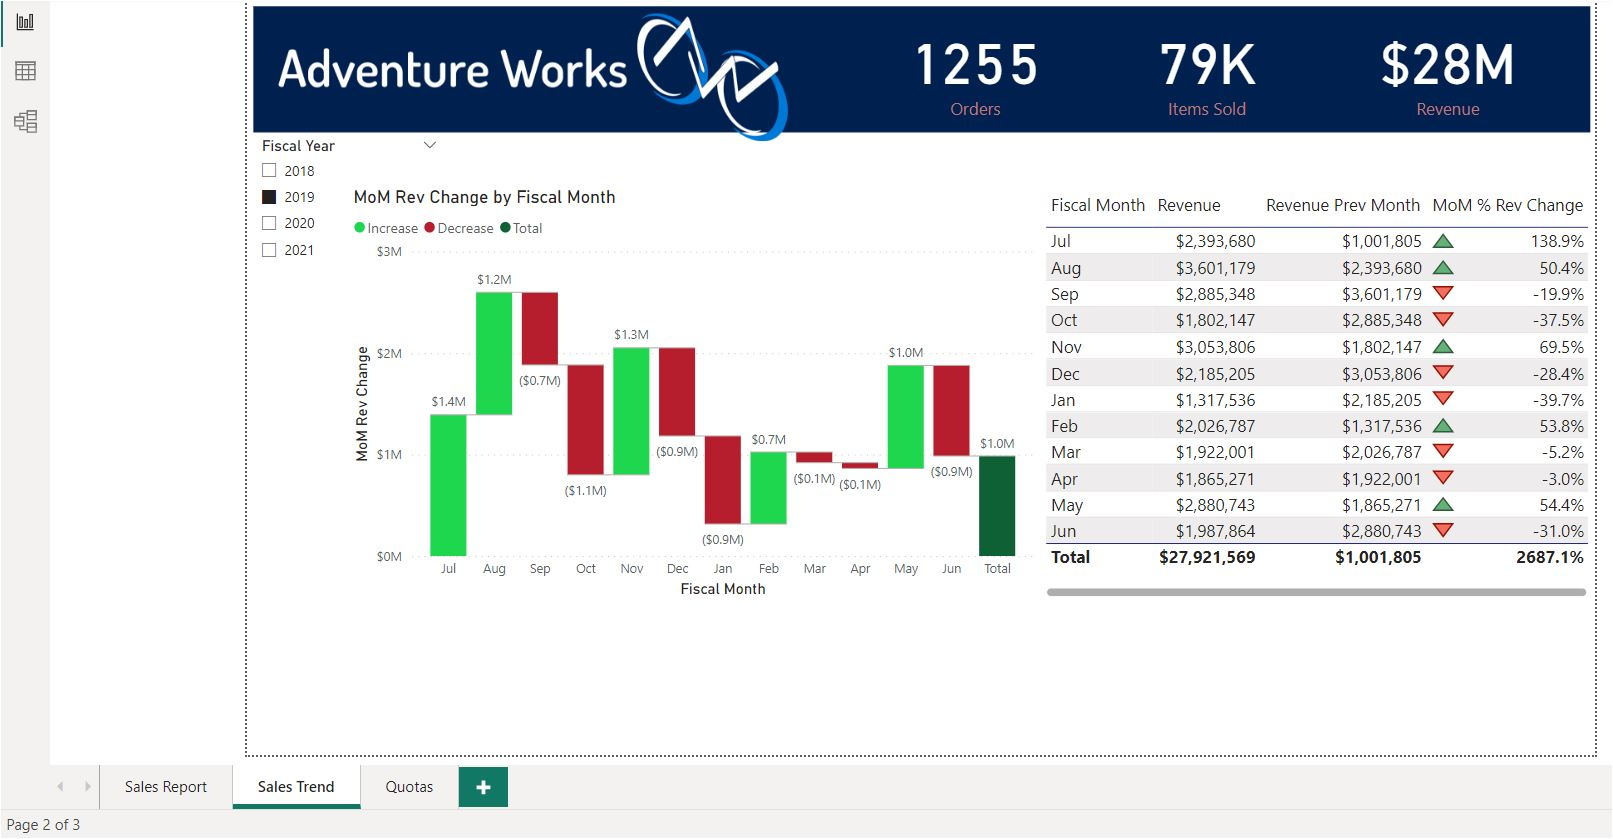

The page's visual inventory and layout, read from the dashboard file:
{"tool":"powerbi","page":{"name":"Sales Trend","canvas":[1280,720],"ordinal":1},"visuals":[{"type":"slicer","fields":{"Values":["Calendar.Fiscal Year"]},"box":[1.3,127.9,191.2,137],"z":0},{"type":"image","box":[0.8,0,1279.2,144.7],"z":1000},{"type":"card","fields":{"Values":["Order_Items.Items Sold"]},"box":[799,13.9,226.1,106.6],"z":2000},{"type":"card","fields":{"Values":["Order_Items.Orders"]},"box":[585.8,13.9,213.2,106.6],"z":3000},{"type":"card","fields":{"Values":["Order_Items.Revenue"]},"box":[1025.1,13.9,229.6,106.6],"z":4000},{"type":"waterfallChart","fields":{"Category":["Calendar.Fiscal Month"],"Y":["Order_Items.MoM Rev Change"]},"box":[96.1,179.2,656.4,395.3],"z":5000},{"type":"tableEx","fields":{"Values":["Calendar.Fiscal Month","Order_Items.Revenue","Order_Items.Revenue Prev Month","Order_Items.MoM % Rev Change"]},"box":[752.5,179.2,525.8,395.3],"z":6000}]}

Visuals, with their boxes on the page's 1280x720 design canvas (x1, y1, x2, y2). These are canvas units, not pixel positions in the 1613x839 screenshot, which may show the page scaled, cropped or inside an application window:
slicer - Calendar.Fiscal Year: bbox=(1, 128, 192, 265)
image: bbox=(1, 0, 1280, 145)
card - Order_Items.Items Sold: bbox=(799, 14, 1025, 120)
card - Order_Items.Orders: bbox=(586, 14, 799, 120)
card - Order_Items.Revenue: bbox=(1025, 14, 1255, 120)
waterfallChart - Calendar.Fiscal Month x Order_Items.MoM Rev Change: bbox=(96, 179, 752, 574)
tableEx - Calendar.Fiscal Month x Order_Items.Revenue: bbox=(752, 179, 1278, 574)
